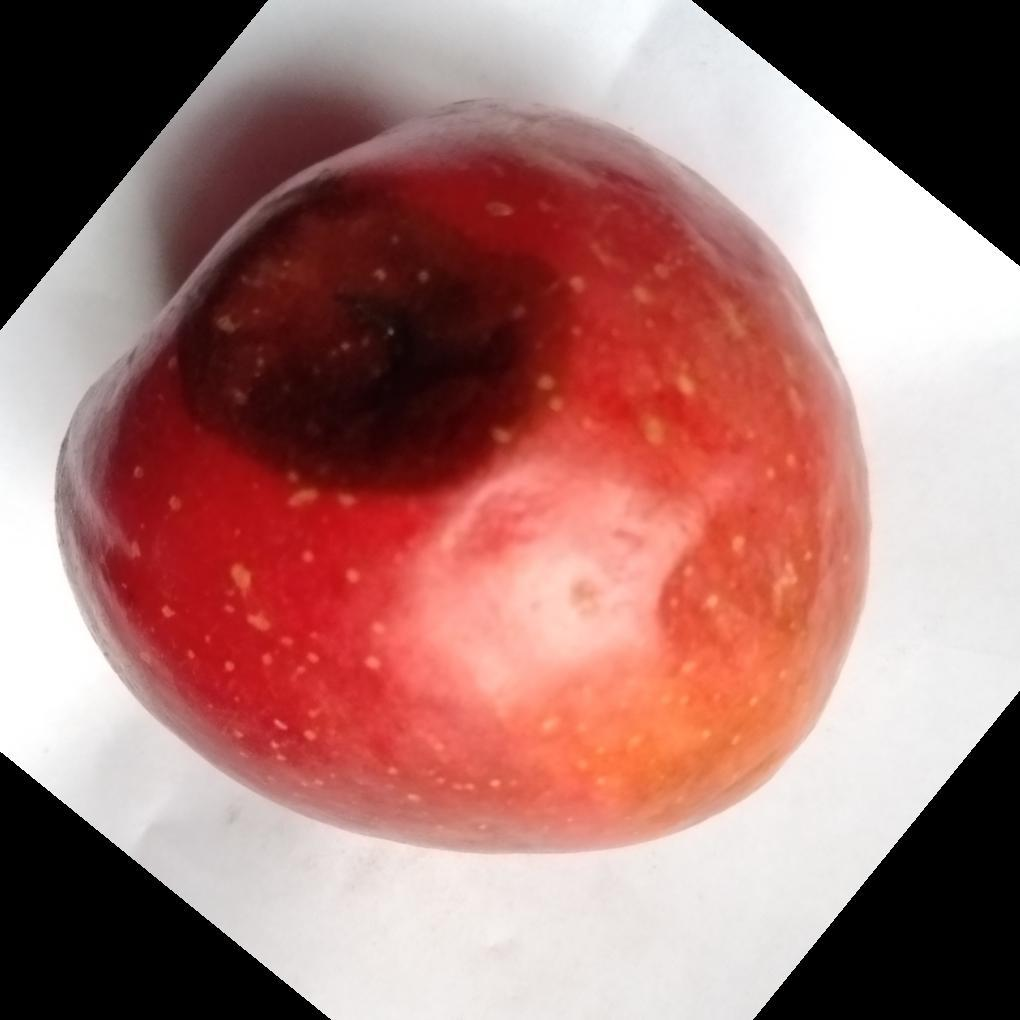FreshOrange: (50, 101, 874, 860)
